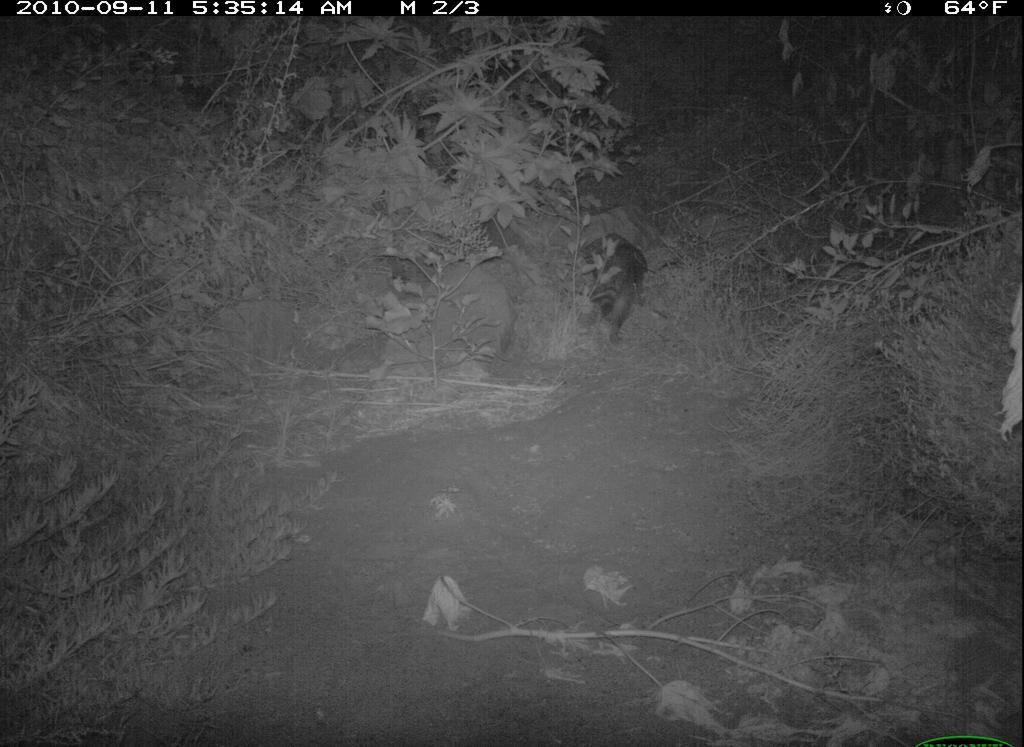raccoon: (563, 202, 652, 347)
